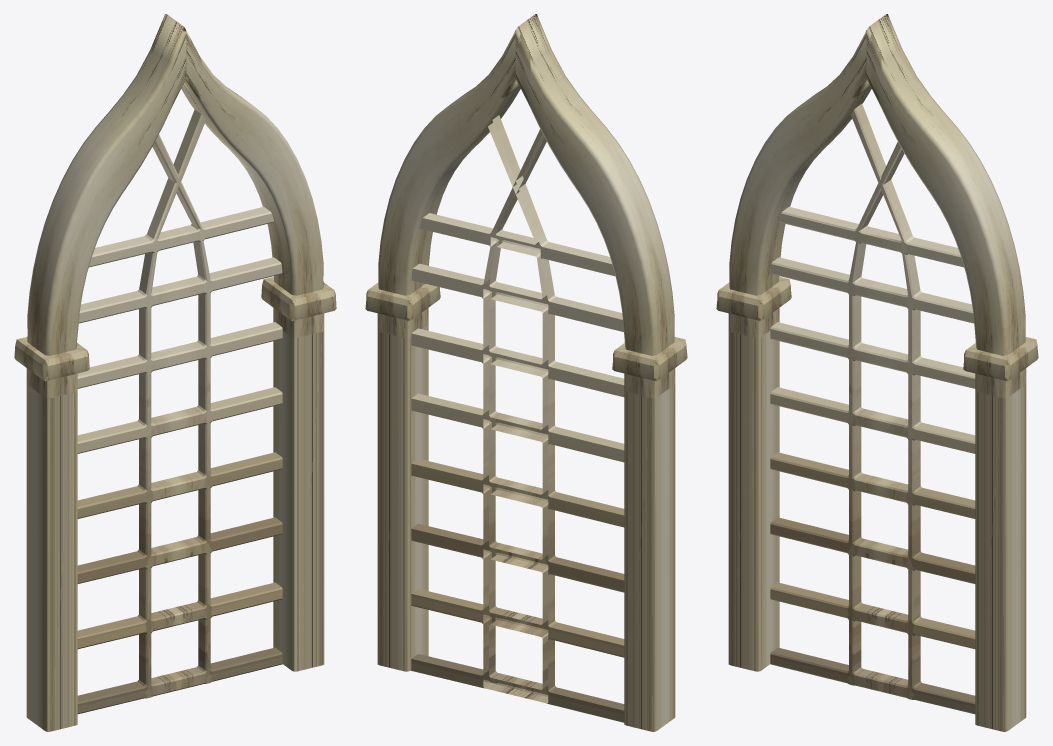
Rendered from Window_Grill.FBX.
3 renders of one model, left to right at view 1: azimuth 30°, elevation 25°; view 2: azimuth 150°, elevation 25°; view 3: azimuth 330°, elevation 25°, orthographic.
Parts seen in each view (by area): view 1: Object099; view 2: Object099; view 3: Object099.
Part boxes in pixels (<box>): Object099: <box>14,14,336,731</box>; Object099: <box>365,14,687,731</box>; Object099: <box>716,14,1038,731</box>.
Bounding box in the file's own units: 68.64 × 150 × 12.87.
